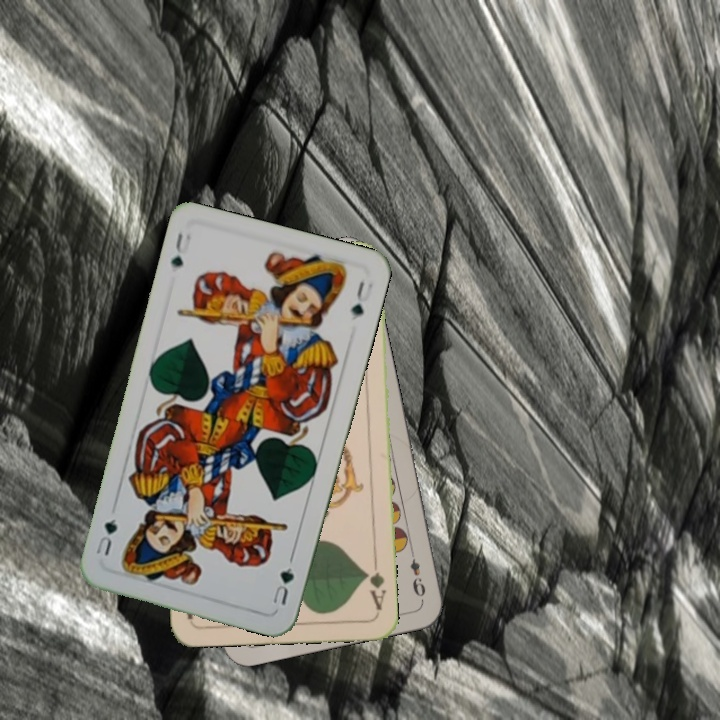E9: (406, 544, 428, 603)
GA: (361, 555, 389, 612)
GU: (268, 563, 297, 608), (166, 228, 193, 271)
